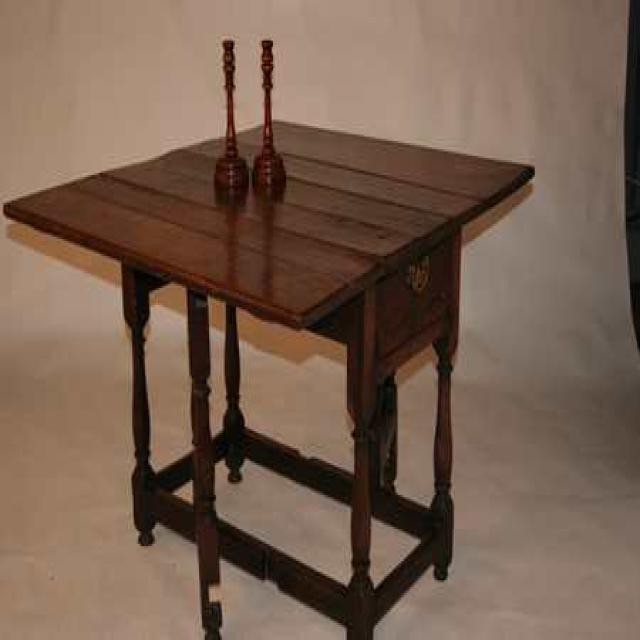table: (2, 110, 538, 636)
